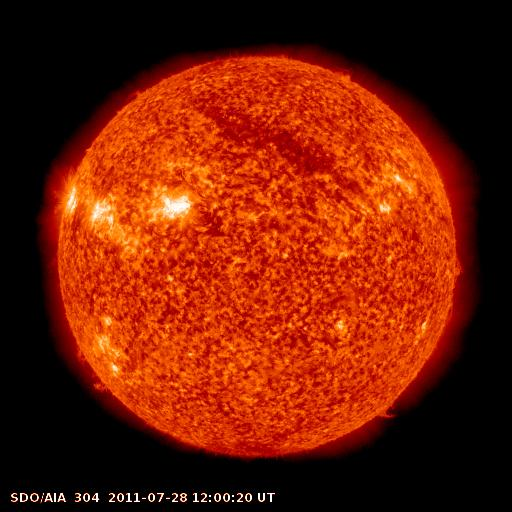prominence: (71, 339, 119, 397), (369, 393, 403, 427)
